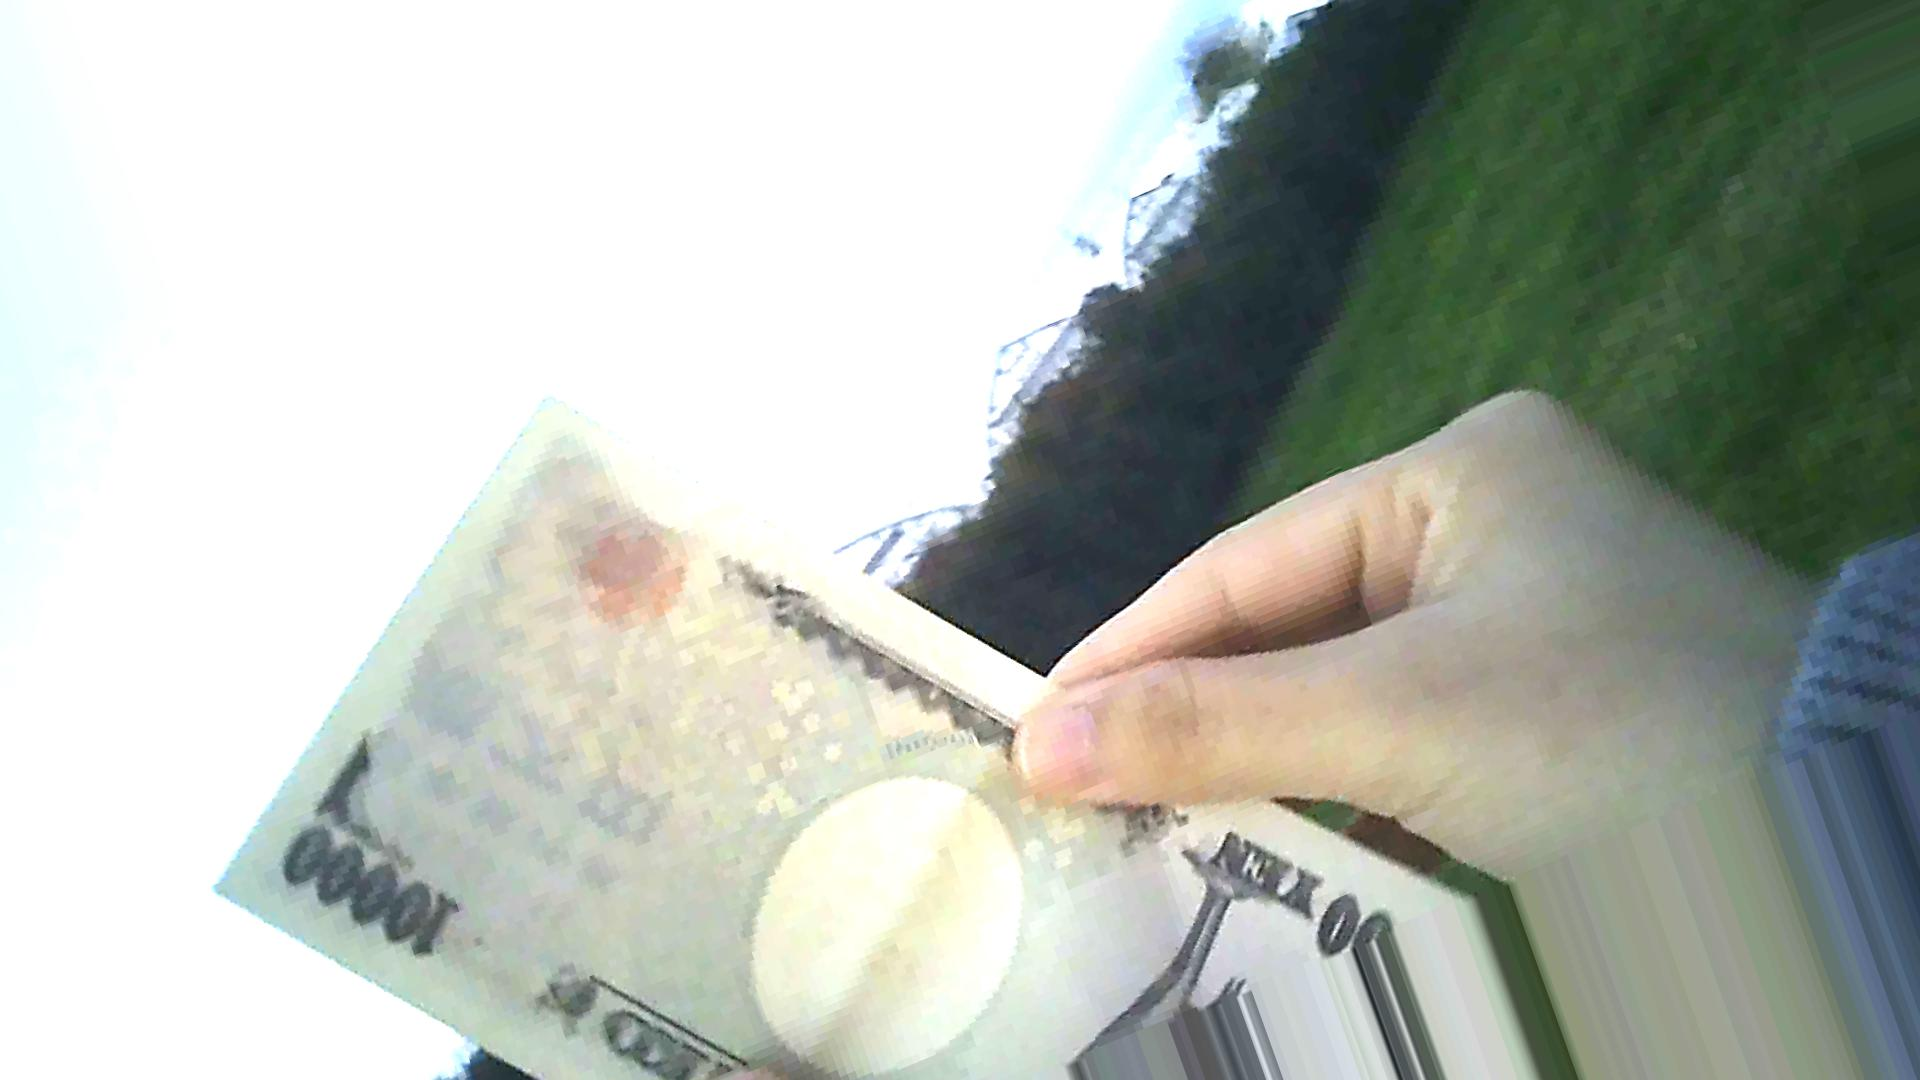10,000 Yen: (223, 371, 1371, 1079)
